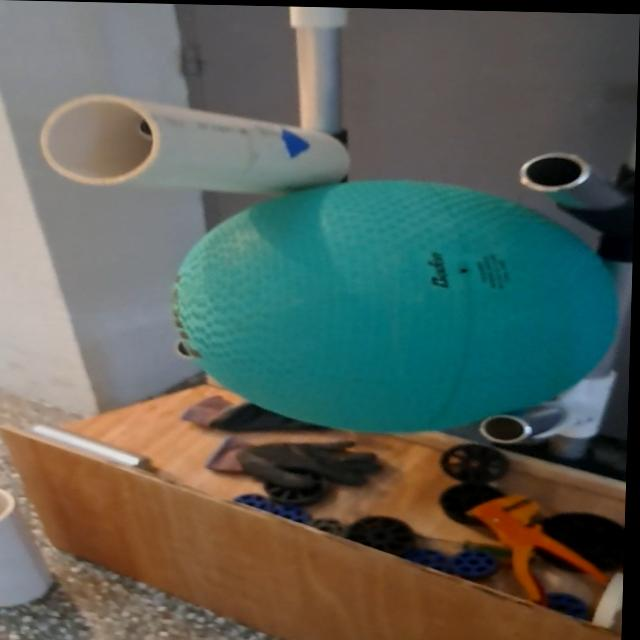ALGAE: (165, 172, 628, 440)
CORAL: (34, 89, 363, 200)
